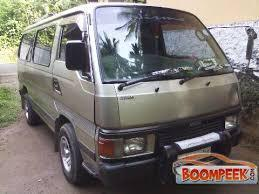Van: (16, 3, 245, 179)
